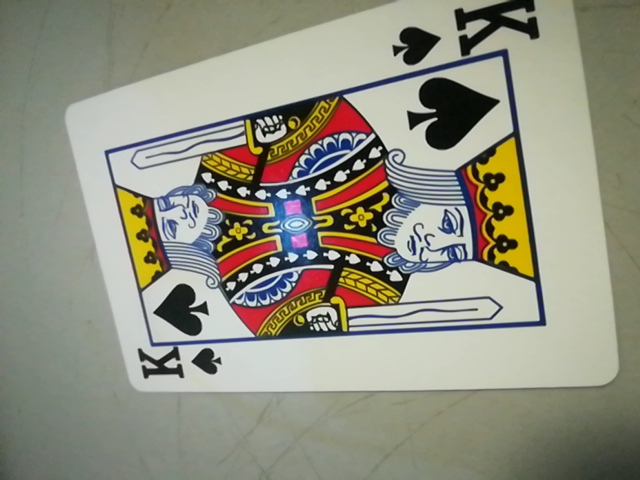ht k: (125, 336, 224, 384)
